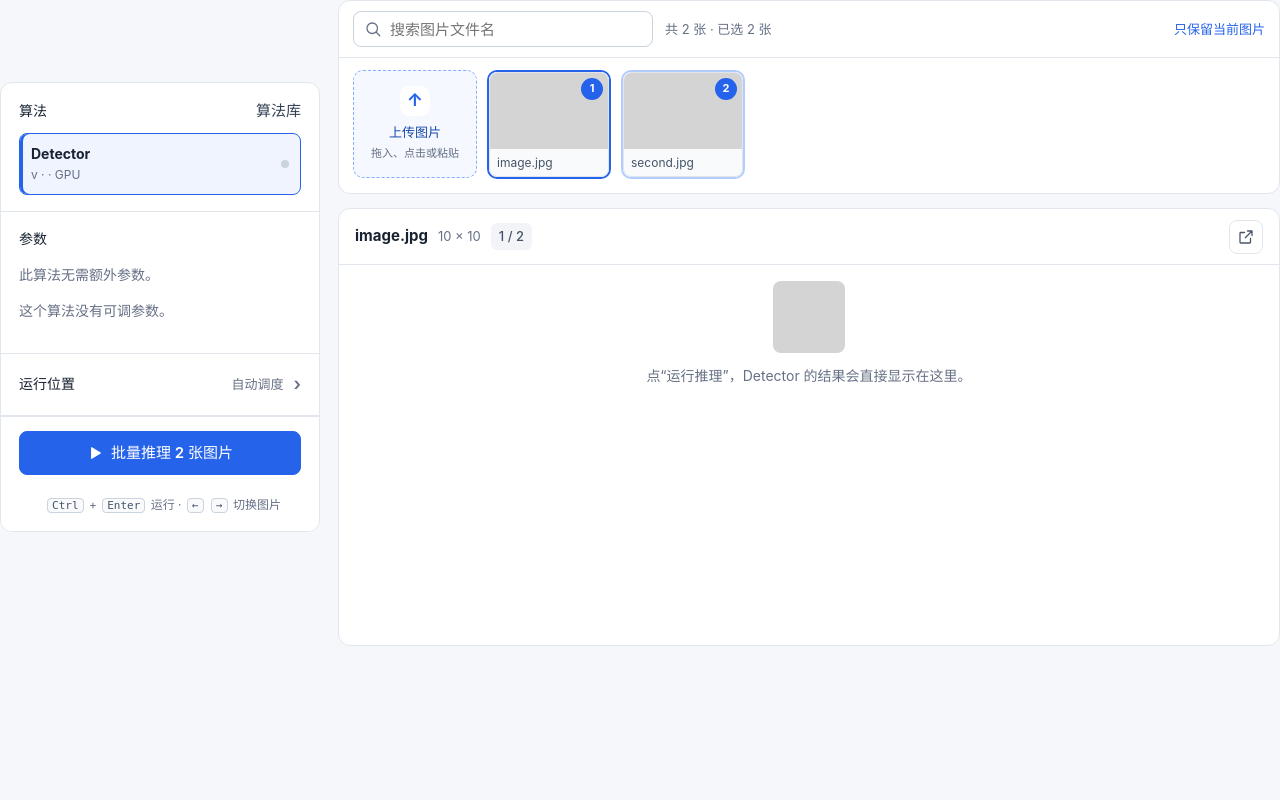
Test: workbench › submits one task per selected image and shows the batch progress in place
Click the button with class "run-button".
click(160, 452)  # box [19, 430, 301, 474]
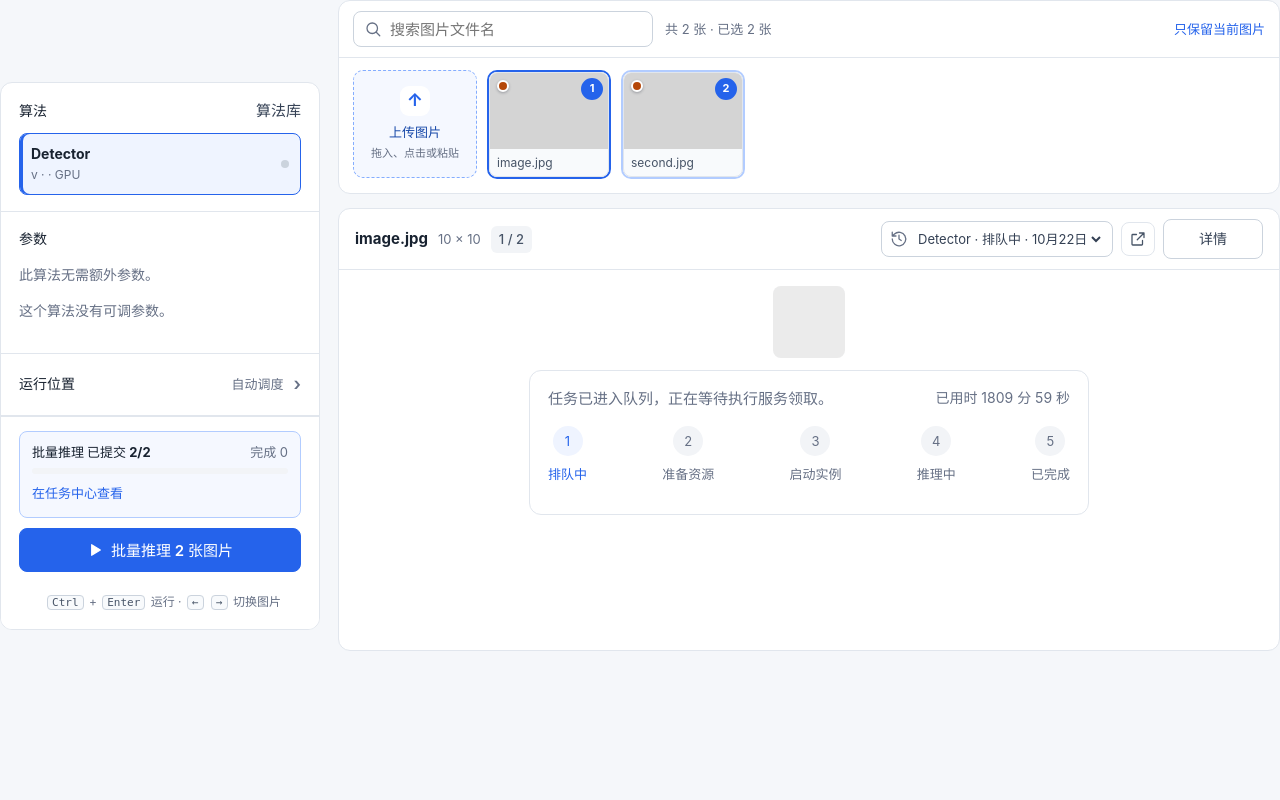
Expected: the message with class "batch-progress" shows "已提交 2/2", [32, 444, 151, 460]
